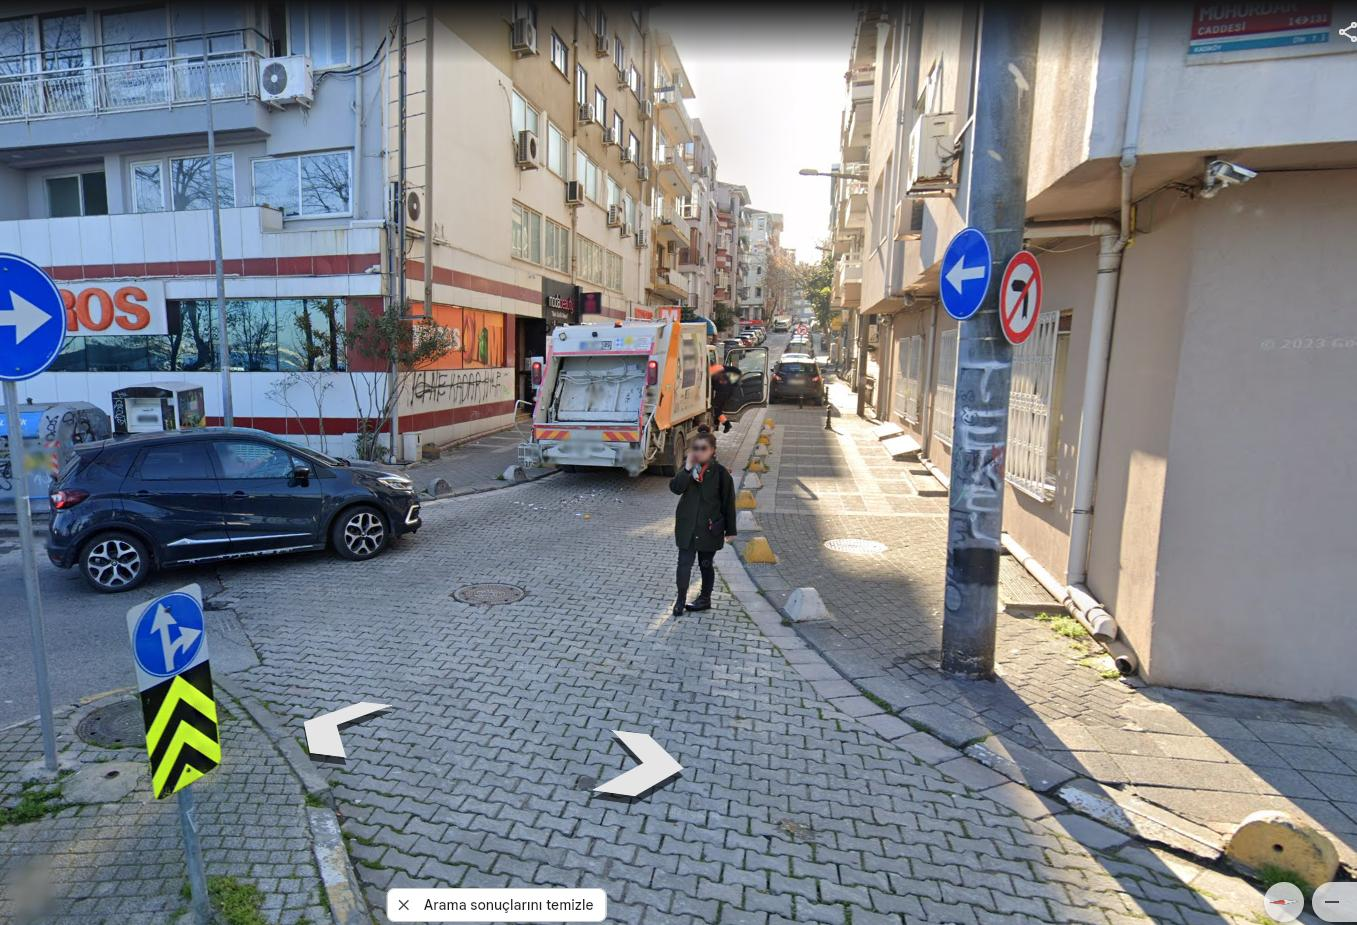leftturnsareforbidden: (1003, 247, 1046, 337)
turnleft: (941, 228, 991, 317)
